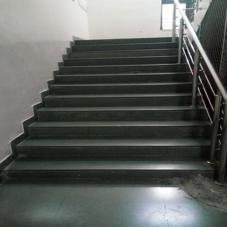Bench: (17, 102, 178, 185)
